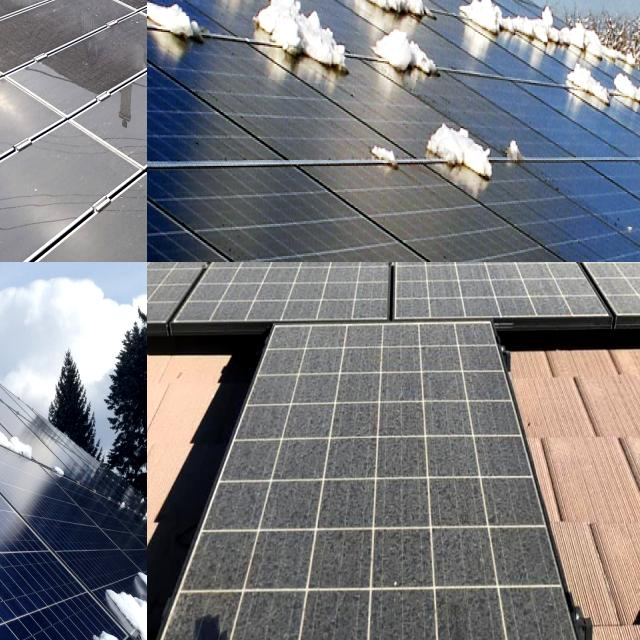dust: (340, 480, 488, 638), (393, 332, 508, 478), (18, 0, 147, 121), (215, 520, 332, 634), (272, 328, 375, 442), (414, 262, 539, 313), (254, 262, 376, 310), (0, 144, 37, 262), (111, 160, 147, 262), (344, 262, 447, 290), (582, 262, 640, 305), (236, 262, 320, 286), (477, 262, 568, 284), (147, 262, 183, 314), (272, 482, 316, 522), (147, 262, 178, 284)
panel: (255, 0, 350, 87), (0, 279, 64, 398), (424, 102, 493, 192), (0, 379, 58, 475), (523, 0, 626, 54), (363, 32, 454, 87), (442, 0, 531, 55), (207, 0, 294, 53), (91, 561, 147, 640), (338, 0, 444, 39), (147, 0, 215, 55), (0, 262, 54, 331), (570, 65, 640, 116), (502, 96, 540, 178), (359, 126, 408, 176), (147, 0, 198, 45), (116, 492, 147, 540)
